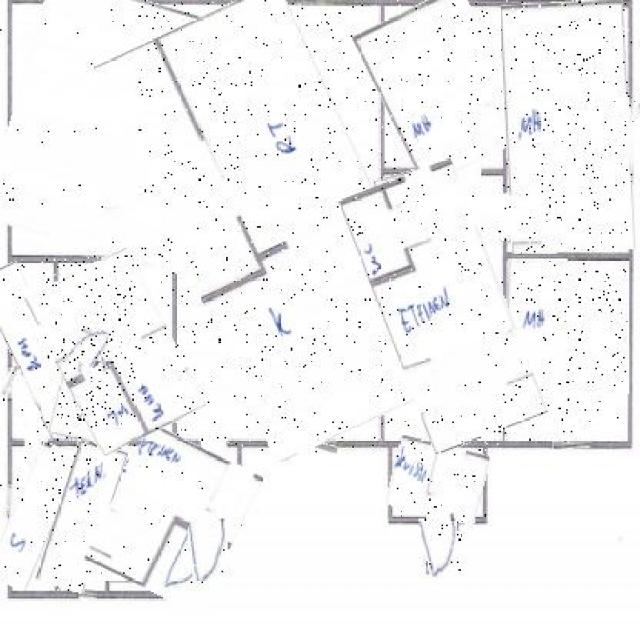door: (422, 514, 463, 575), (189, 520, 229, 578), (72, 325, 108, 366)
window: (623, 99, 639, 164), (295, 438, 337, 452), (76, 0, 136, 8), (424, 0, 463, 12), (552, 437, 591, 449), (3, 366, 15, 397), (565, 0, 603, 9), (292, 0, 336, 6), (78, 589, 97, 600), (6, 484, 12, 516)
zone: (135, 0, 420, 451), (0, 0, 257, 266), (362, 163, 524, 448), (503, 1, 632, 254), (43, 255, 191, 448), (366, 0, 517, 175), (97, 433, 251, 604), (506, 260, 628, 440), (0, 259, 72, 438), (46, 440, 117, 592), (0, 442, 68, 589), (389, 440, 486, 520), (378, 172, 431, 257), (54, 362, 109, 442)
